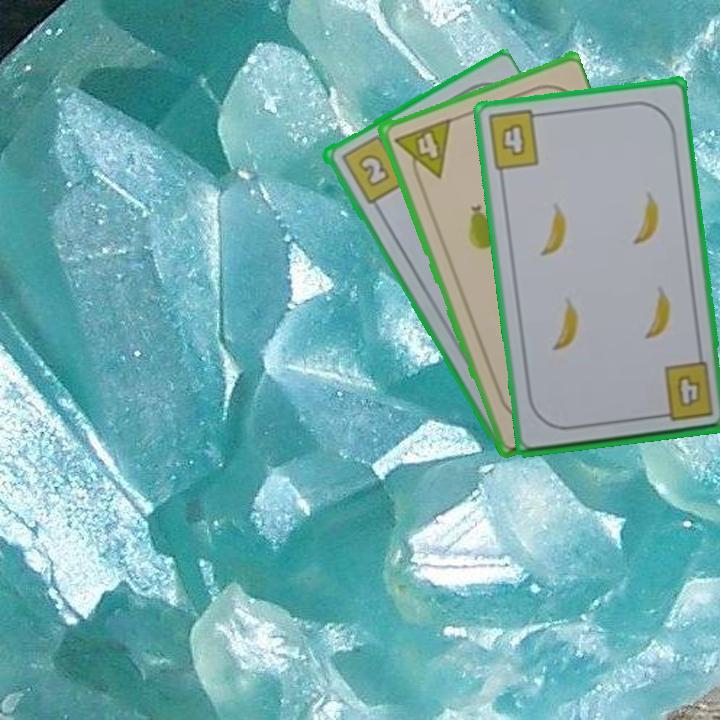2b: (337, 130, 409, 207)
4b: (483, 107, 548, 173), (653, 359, 716, 425)
4p: (390, 115, 453, 186)
